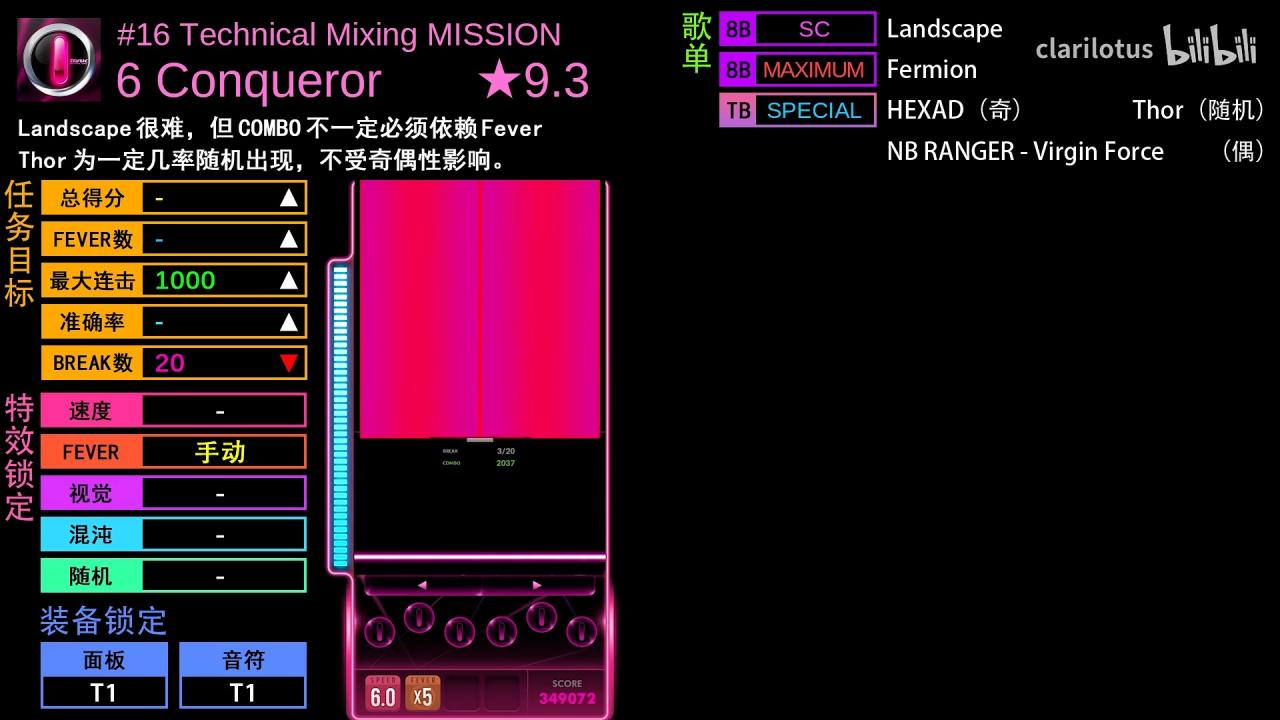xstart: (480, 424, 600, 438), (359, 425, 482, 438)
